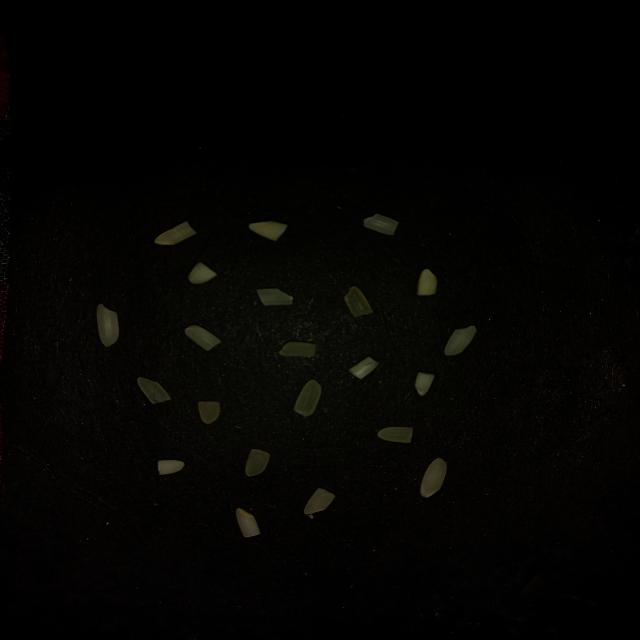Broken: (294, 379, 322, 416), (155, 221, 198, 245), (444, 326, 477, 356), (186, 324, 222, 351), (344, 286, 373, 318), (138, 377, 172, 404), (249, 220, 289, 242), (304, 488, 336, 515), (364, 213, 399, 236), (348, 356, 380, 380), (236, 508, 261, 537), (246, 448, 270, 476), (257, 288, 293, 306), (188, 262, 217, 284), (416, 268, 436, 296), (279, 342, 316, 357), (198, 401, 221, 424), (378, 427, 413, 442), (414, 371, 434, 396), (158, 460, 185, 476)
Full: (420, 457, 446, 498), (97, 304, 119, 346)
